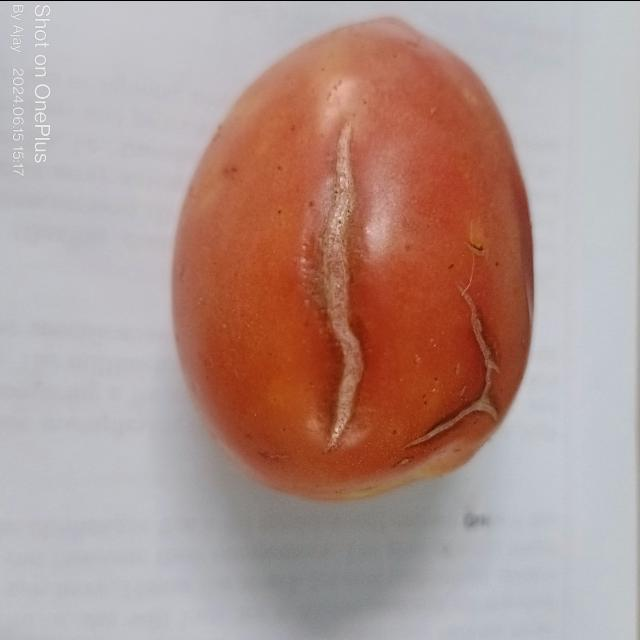tomato_cracking: (310, 110, 366, 448), (466, 280, 504, 412)
